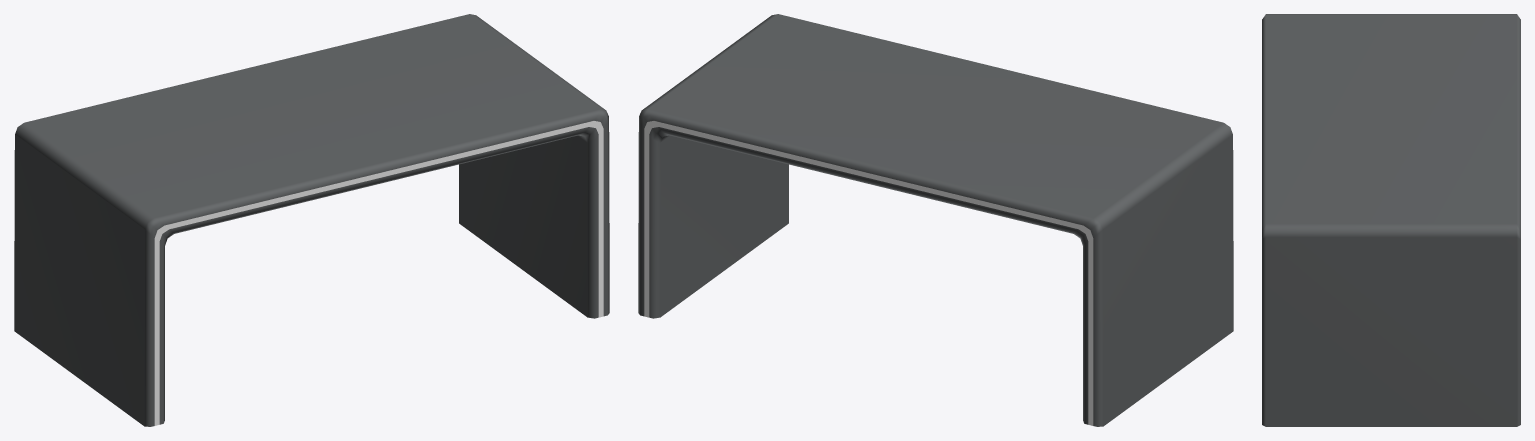
Rendered from Desk_038.glb.
The picture shows the model from 3 angles, left to right: view 1: azimuth 30°, elevation 25°; view 2: azimuth 150°, elevation 25°; view 3: azimuth 270°, elevation 25°; orthographic projection. The views are drawn at different scales.
Parts seen in each view (by area): view 1: Desk_038; view 2: Desk_038; view 3: Desk_038.
Part boxes in pixels (bbox=[...]): Desk_038: bbox=[14, 14, 609, 426]; Desk_038: bbox=[638, 14, 1233, 426]; Desk_038: bbox=[1262, 14, 1520, 426].
Size of the model in its own units: 2 by 0.8466 by 1.
1 material, 1 textured.
